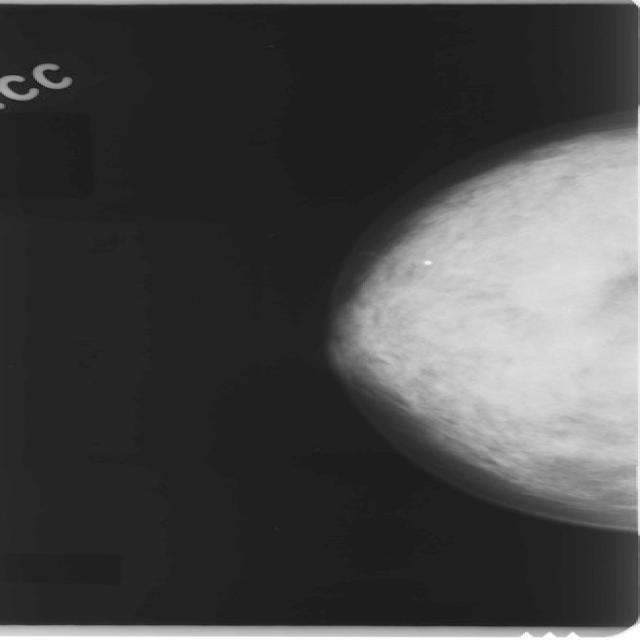tumour: (501, 255, 609, 318)
